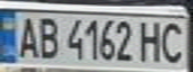1: (81, 16, 100, 61)
2: (112, 17, 139, 63)
4: (63, 16, 84, 61)
6: (100, 17, 118, 62)
A: (12, 13, 42, 60)
B: (33, 14, 60, 61)
C: (157, 19, 190, 63)
H: (136, 18, 166, 63)
